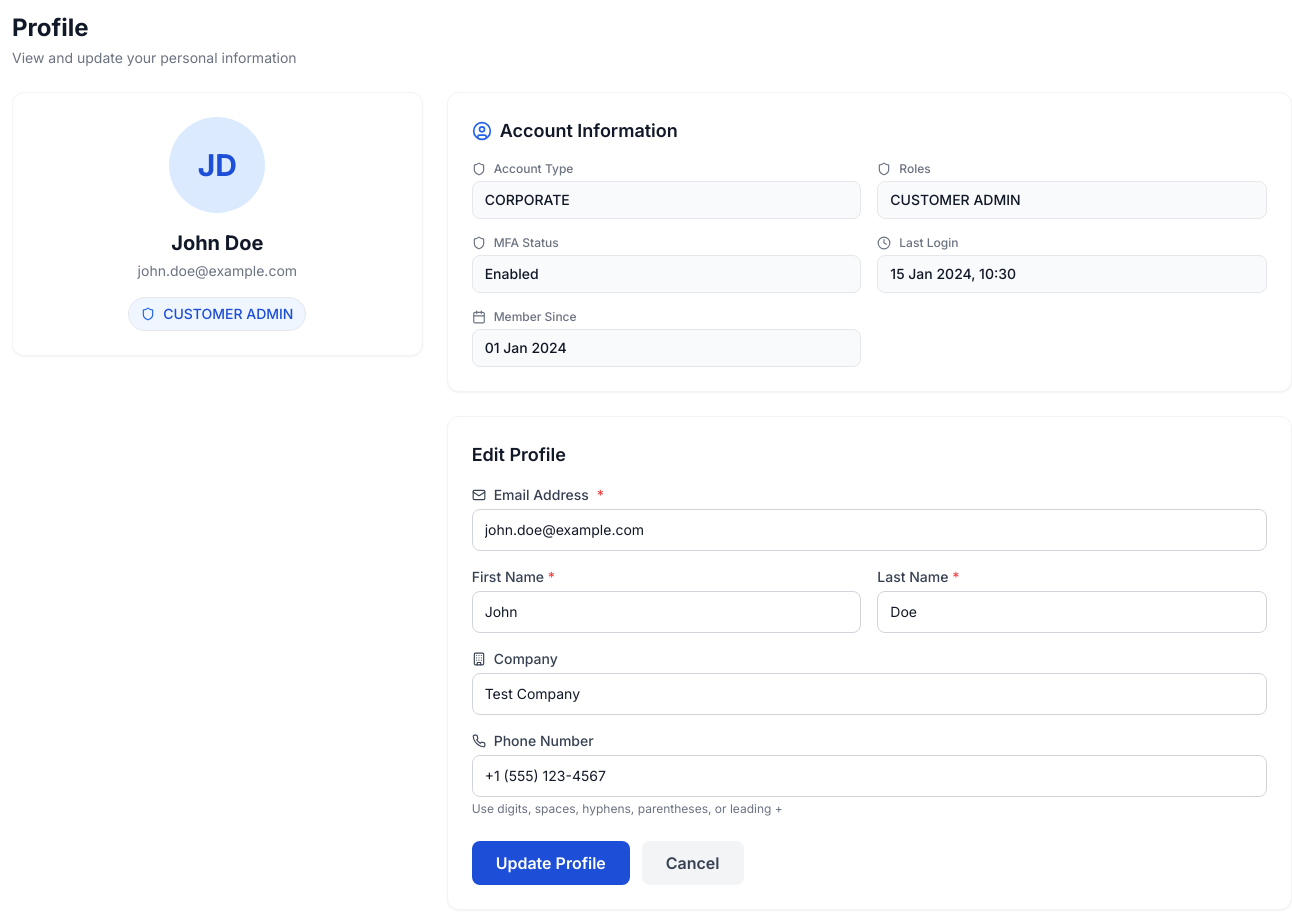
ProfileEditForm Validation › should display validation error when phone contains invalid characters
// Enter invalid phone with letters
Type "123-abc-4567" into the field with placeholder "+1 (555) 123-4567" below "Phone Number".
click(869, 776); type("123-abc-4567")  # box [472,755,1267,797]
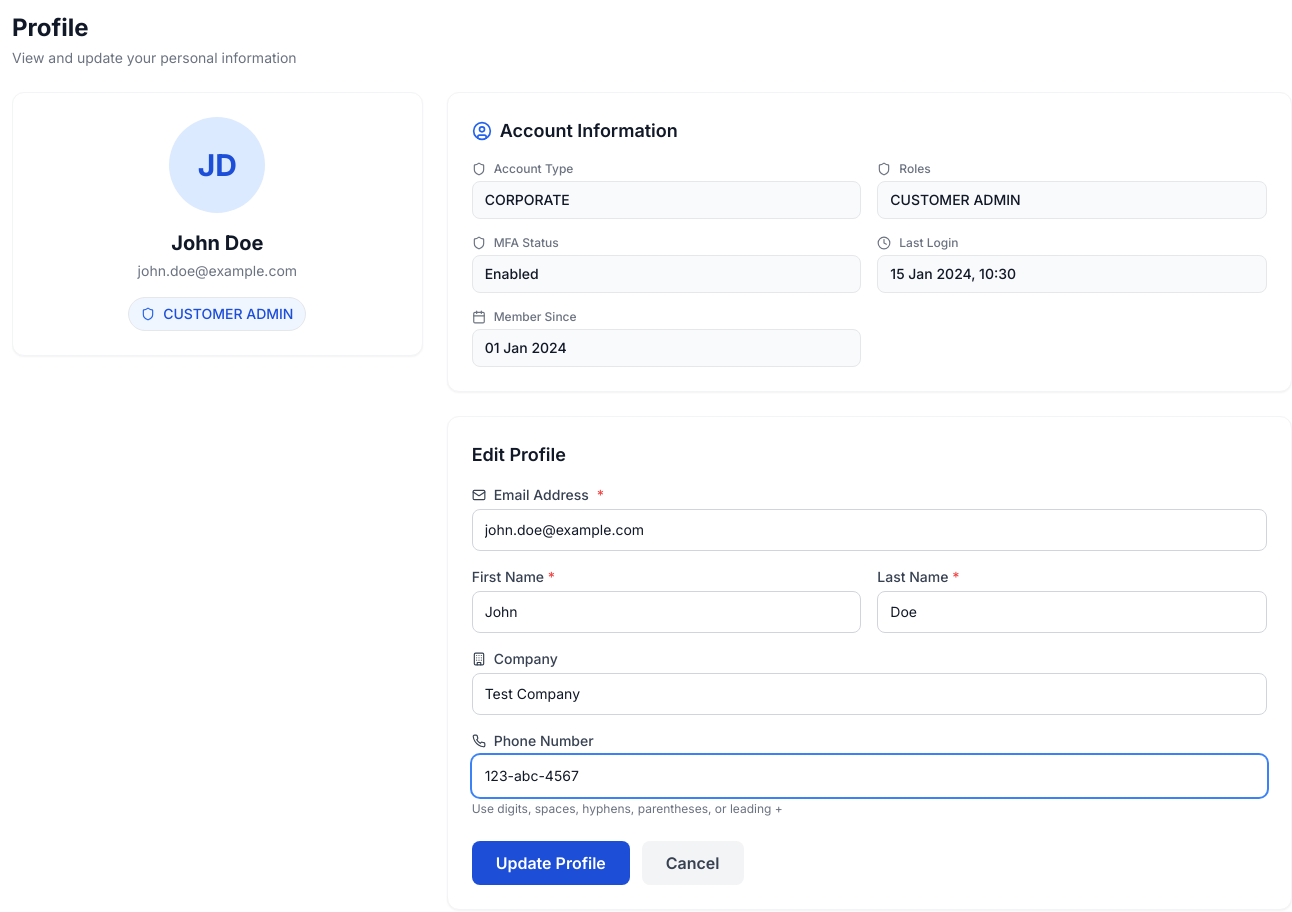
// Submit the form
Click the button "Update Profile".
click(551, 863)  # box [472,841,630,885]
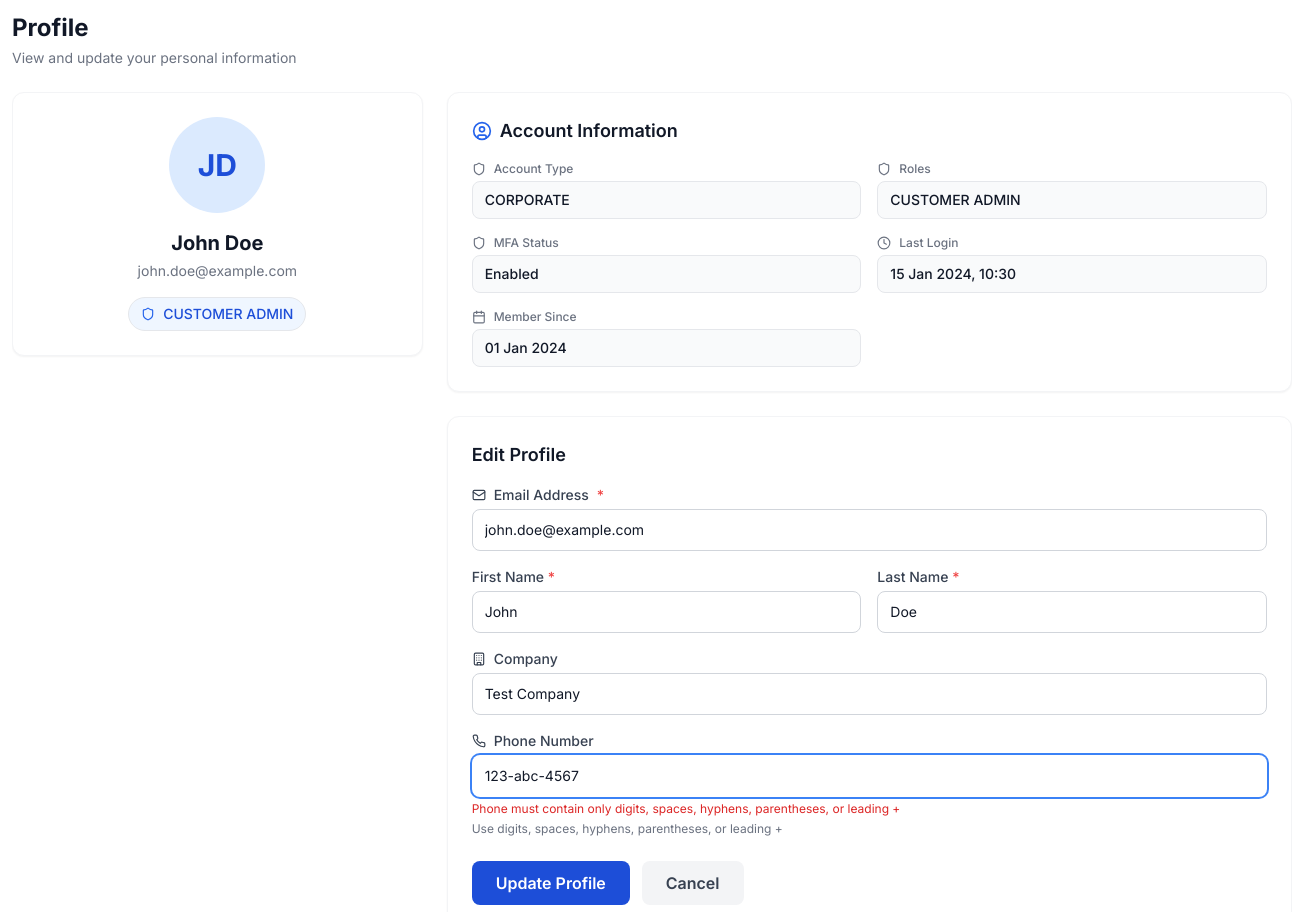
Check: the text "Phone must contain only digits, spaces, hyphens, parentheses, or leading +" is shown, box [472,801,900,816]
